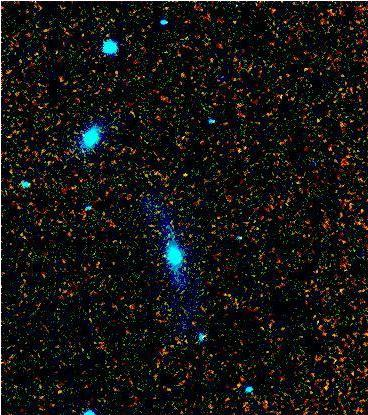star: (170, 158, 200, 188)
